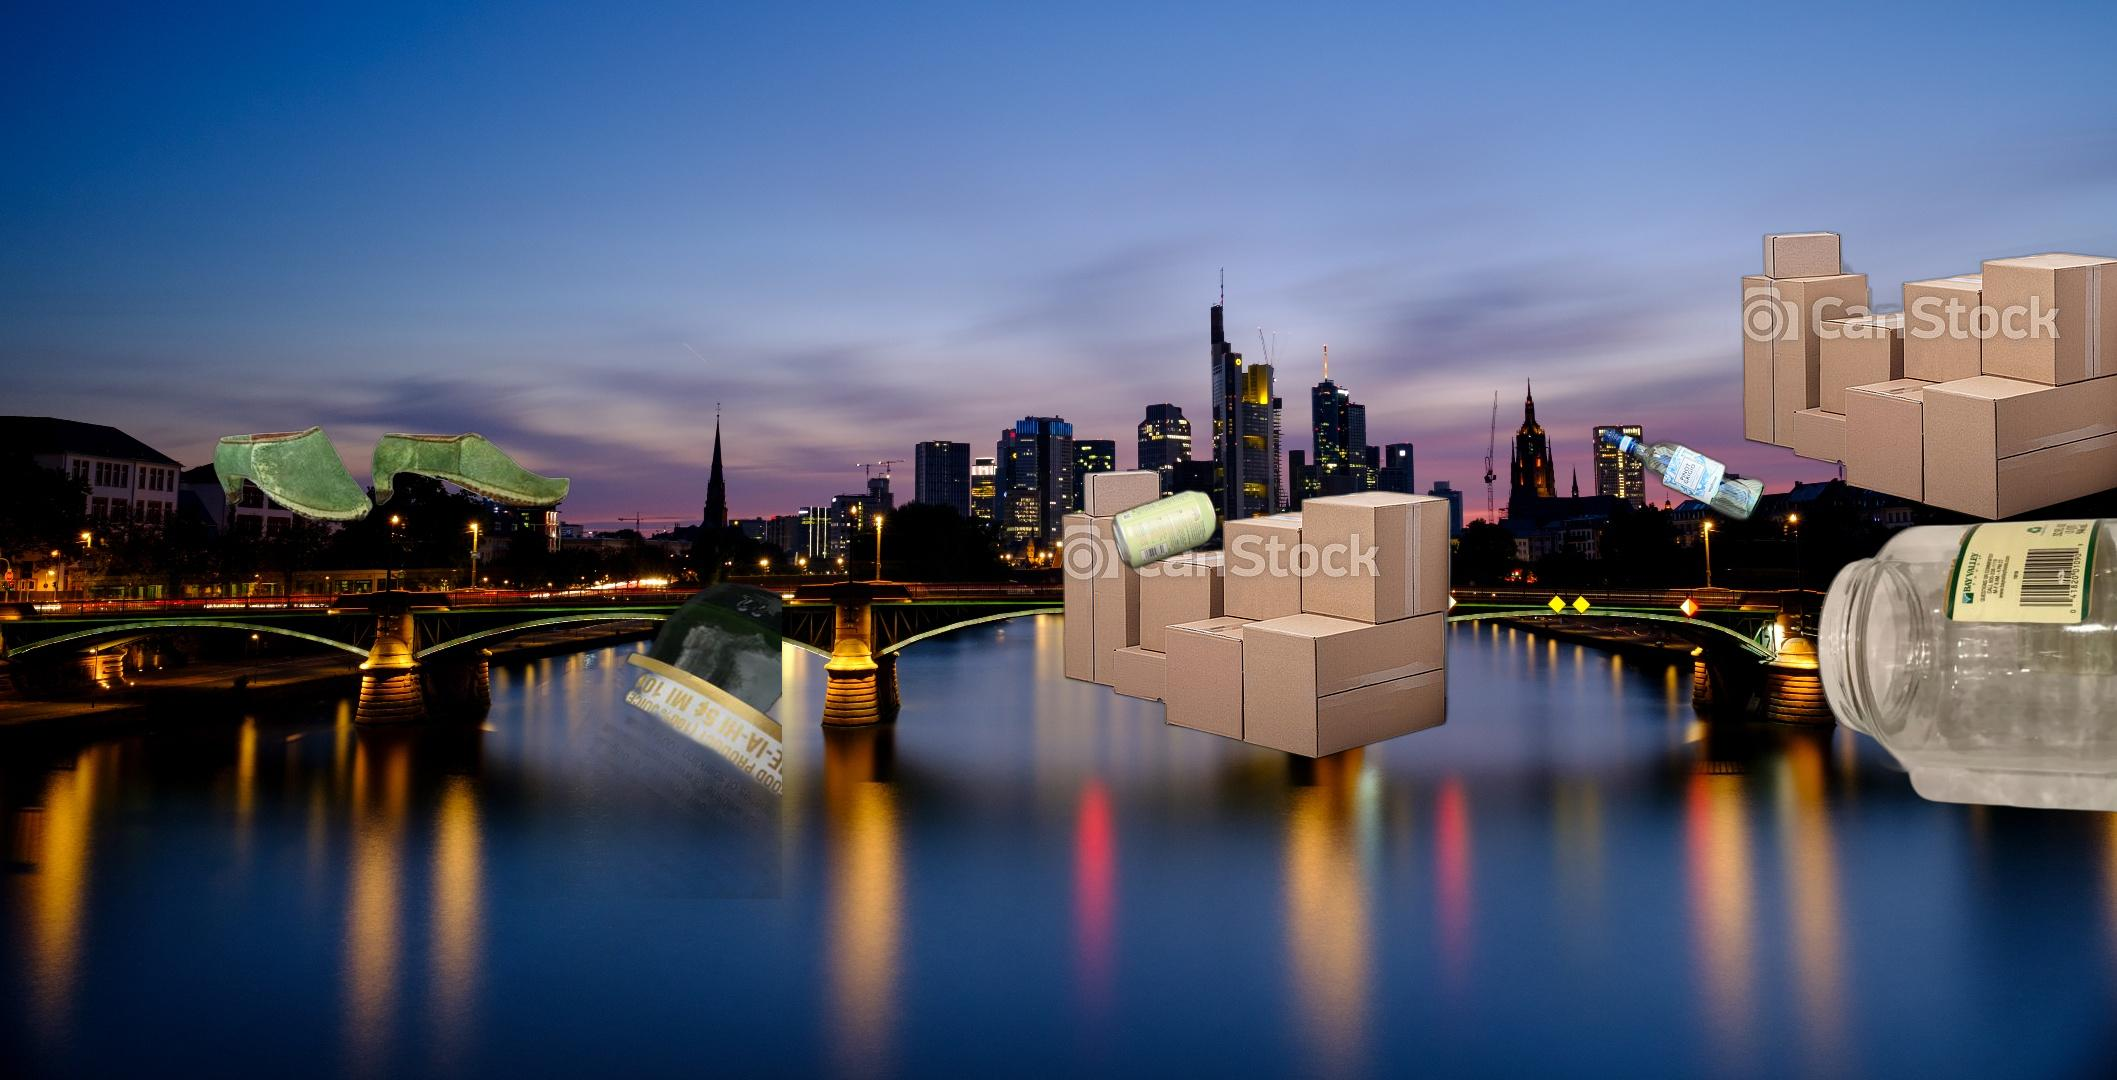glass: (406, 579, 782, 900), (1813, 511, 2117, 817), (1596, 422, 1770, 528)
metal-cans: (1107, 484, 1220, 574)
shoes: (211, 422, 573, 525)
trashbox-cardboard: (1044, 466, 1456, 763), (1724, 227, 2117, 525)
